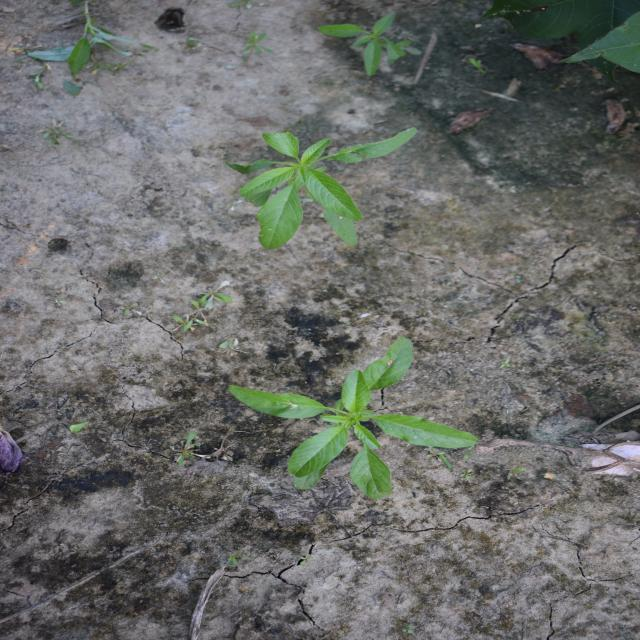Carpetweed: (163, 275, 237, 339), (168, 429, 204, 468)
Waterhemp: (225, 335, 480, 502), (225, 125, 420, 252)
